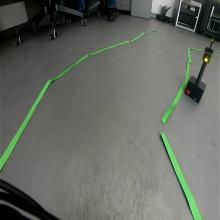green: (202, 51, 212, 64)
